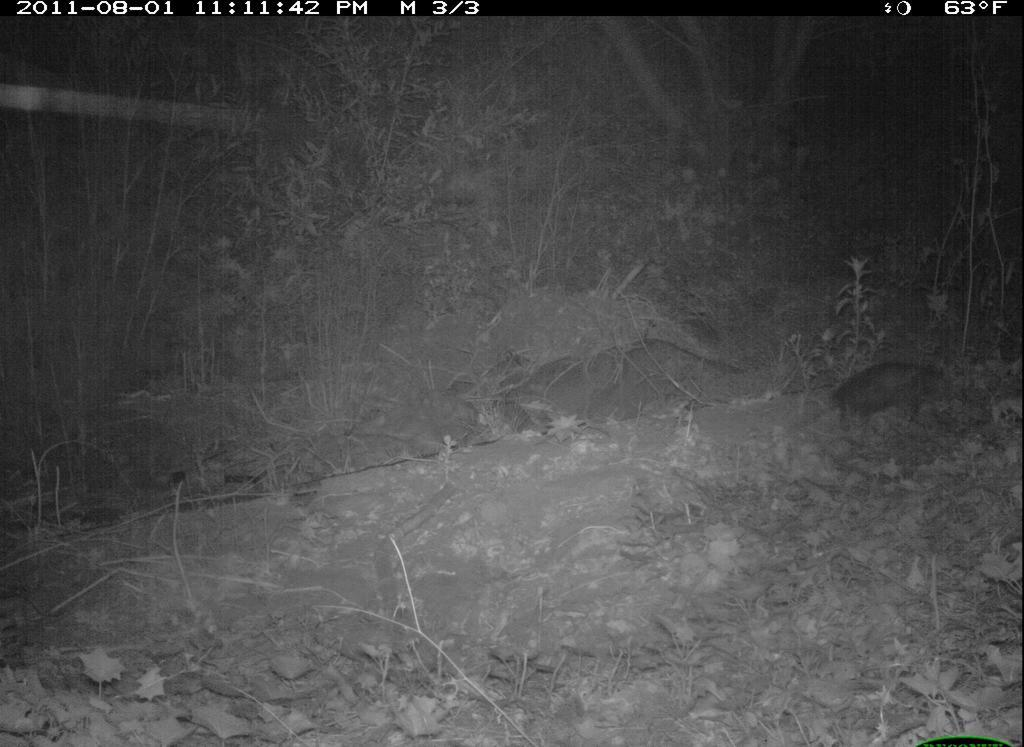opossum: (834, 347, 969, 438)
